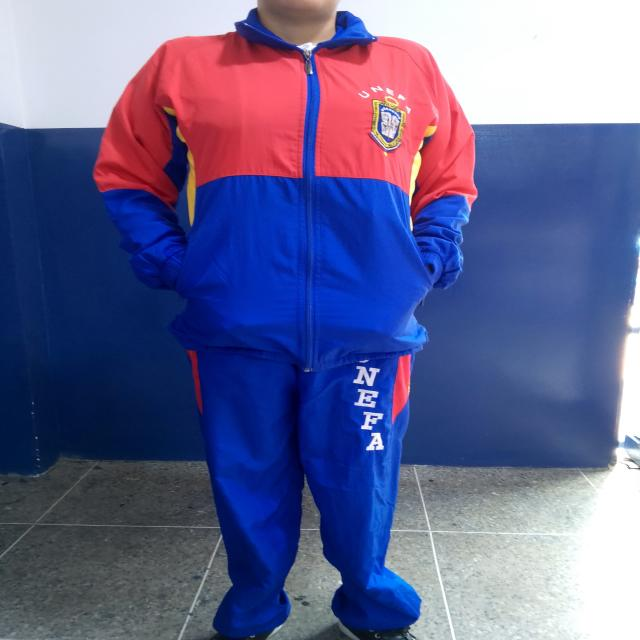chaqueta_unefa: (90, 7, 480, 373)
uniforme_superior: (185, 348, 425, 638)
